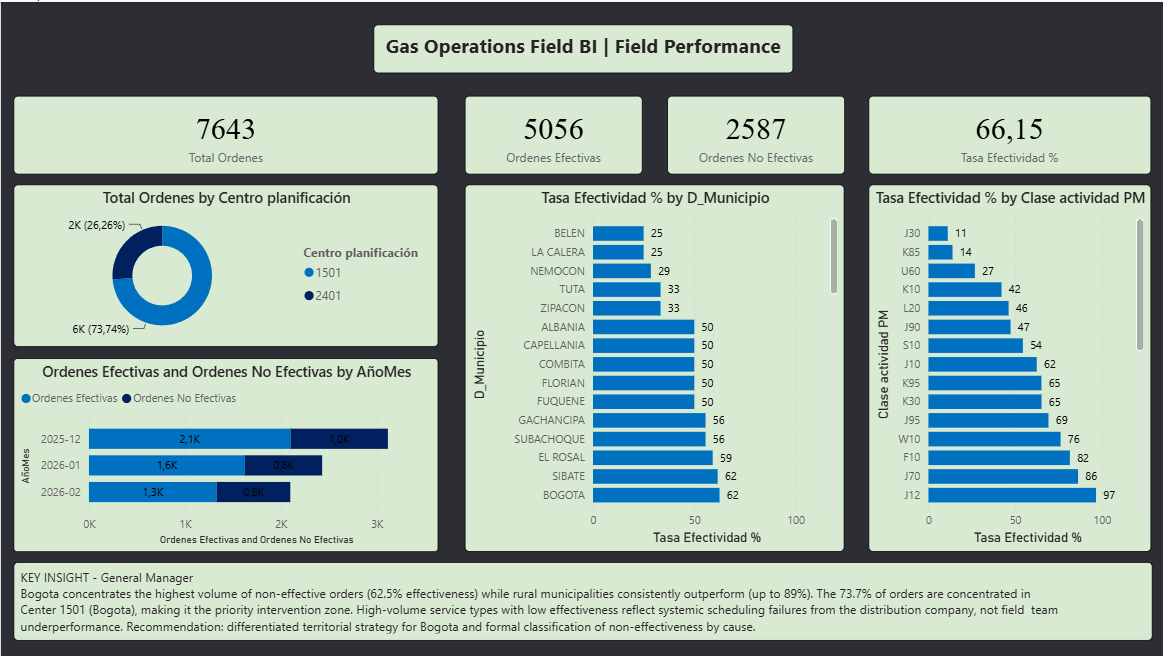

What the dashboard file says about the page in this screenshot:
{"tool":"powerbi","page":{"name":"Field performance","canvas":[1280,720],"ordinal":1},"visuals":[{"type":"clusteredBarChart","fields":{"Category":["Data.D_Municipio"],"Y":["Data.Tasa Efectividad %"]},"box":[509.1,200.3,417.2,403.4],"z":0},{"type":"clusteredBarChart","fields":{"Category":["Data.Clase actividad PM"],"Y":["Data.Tasa Efectividad %"]},"box":[952.3,200.3,310.1,403.4],"z":1},{"type":"donutChart","fields":{"Category":["Data.Centro planificación"],"Y":["Data.Total Ordenes"]},"box":[13.7,200.3,466.6,178.4],"z":2},{"type":"barChart","fields":{"Y":["Data.Ordenes Efectivas","Data.Ordenes No Efectivas"],"Category":["Data.AñoMes"]},"box":[13.7,391.1,466.6,212.7],"z":3},{"type":"card","fields":{"Values":["Data.Total Ordenes"]},"box":[13.7,102.9,466.6,86.4],"z":4},{"type":"card","fields":{"Values":["Data.Ordenes Efectivas"]},"box":[509.1,102.9,194.9,86.4],"z":5},{"type":"card","fields":{"Values":["Data.Ordenes No Efectivas"]},"box":[731.4,102.9,194.9,86.4],"z":6},{"type":"card","fields":{"Values":["Data.Tasa Efectividad %"]},"box":[952.3,102.9,310.1,86.4],"z":7},{"type":"textbox","box":[13.7,614.8,1250.1,86.4],"z":8},{"type":"textbox","box":[408.9,24.7,461.1,53.5],"z":9}]}

Visuals, with their boxes in screenshot pixels (x1, y1, x2, y2), scaled from the page's 1280x720 canvas onto the 1163x656 screenshot:
clusteredBarChart - Data.D_Municipio x Data.Tasa Efectividad %: <region>463, 182, 842, 550</region>
clusteredBarChart - Data.Clase actividad PM x Data.Tasa Efectividad %: <region>865, 182, 1147, 550</region>
donutChart - Data.Centro planificación x Data.Total Ordenes: <region>12, 182, 436, 345</region>
barChart - Data.Ordenes Efectivas x Data.Ordenes No Efectivas: <region>12, 356, 436, 550</region>
card - Data.Total Ordenes: <region>12, 94, 436, 172</region>
card - Data.Ordenes Efectivas: <region>463, 94, 640, 172</region>
card - Data.Ordenes No Efectivas: <region>665, 94, 842, 172</region>
card - Data.Tasa Efectividad %: <region>865, 94, 1147, 172</region>
textbox: <region>12, 560, 1148, 639</region>
textbox: <region>372, 23, 790, 71</region>
